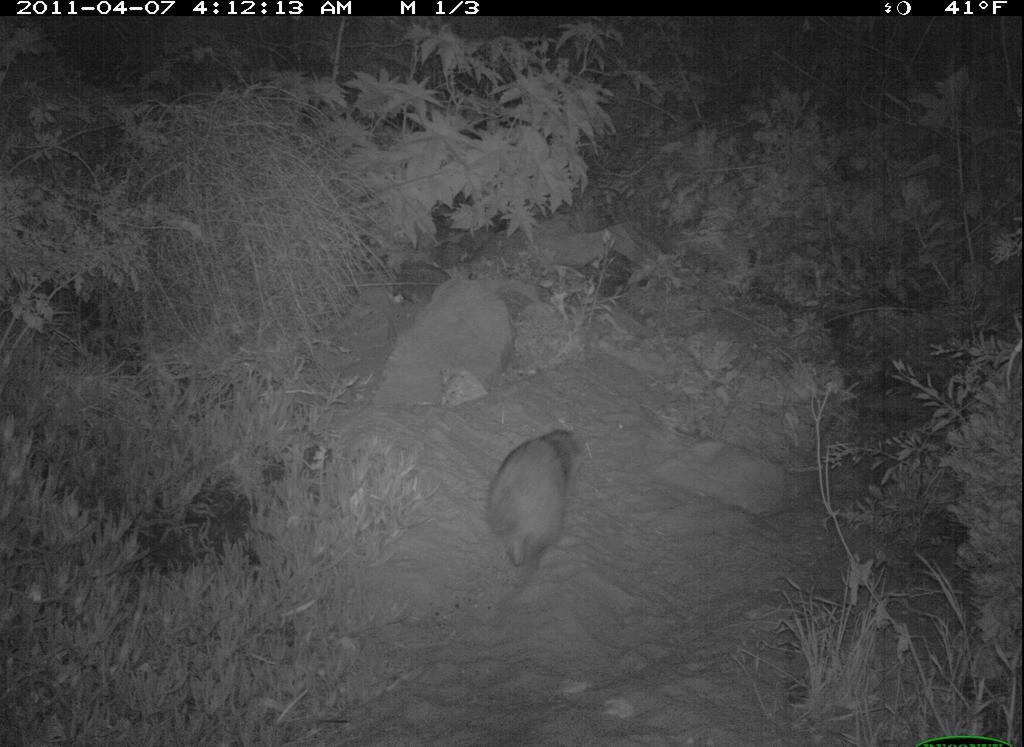raccoon: (481, 420, 596, 574)
